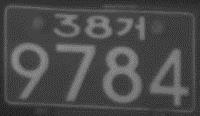3: (52, 13, 82, 38)
4: (149, 47, 190, 107)
7: (54, 42, 96, 102)
8: (101, 45, 143, 104), (83, 14, 113, 39)
9: (10, 41, 49, 101)
거: (116, 16, 146, 41)
